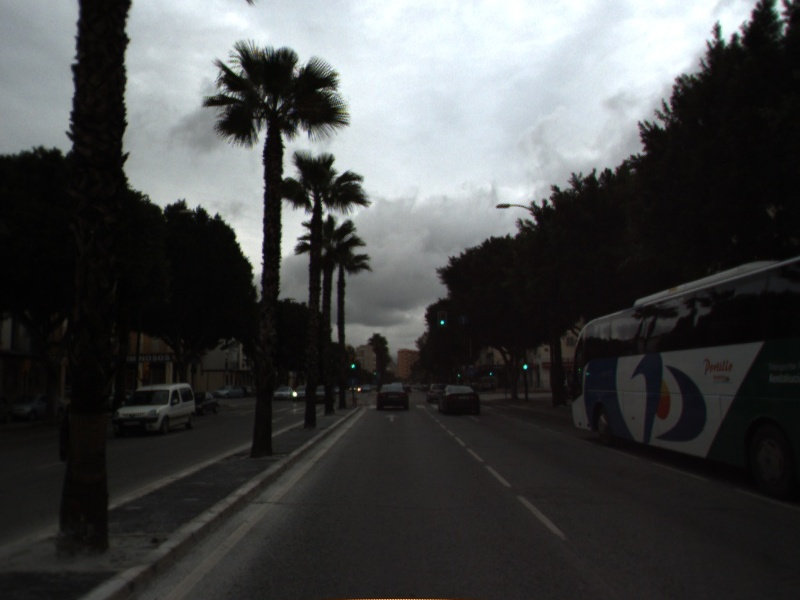STRAIGHT: (382, 411, 402, 424)
